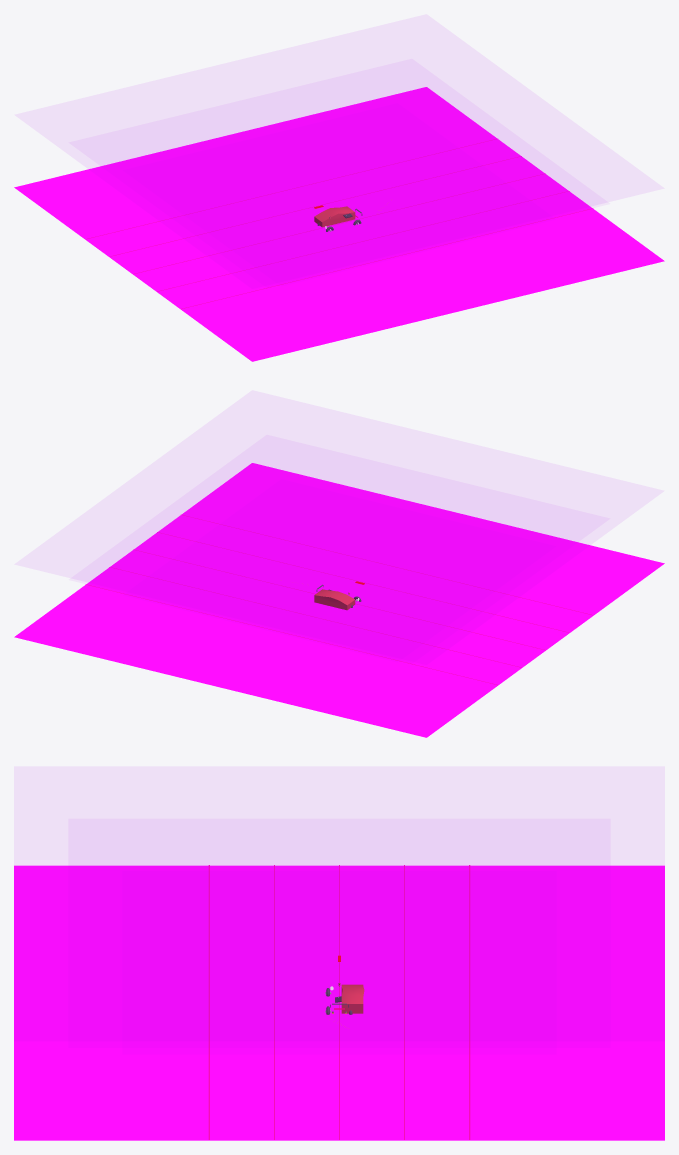
File: mad-car-v5.glb
3 renders of one model, top to bottom at view 1: azimuth 30°, elevation 25°; view 2: azimuth 150°, elevation 25°; view 3: azimuth 270°, elevation 25°, orthographic. The views are drawn at different scales.
Visible parts, largest first — view 1: Ground_Neon, CarBody_v5; view 2: Ground_Neon, CarBody_v5; view 3: Ground_Neon, CarBody_v5, TrackLine_0, TrackLine_4.
Boxes of the visible parts, x1,y1,x2,y2 form: Ground_Neon: [14, 87, 664, 361]; CarBody_v5: [314, 206, 355, 227]; Ground_Neon: [14, 463, 664, 737]; CarBody_v5: [314, 589, 355, 610]; Ground_Neon: [14, 865, 664, 1140]; CarBody_v5: [341, 984, 364, 1013]; TrackLine_0: [208, 865, 209, 1139]; TrackLine_4: [469, 865, 470, 1139].
Size of the model in its own units: 30 by 5.33 by 30.
